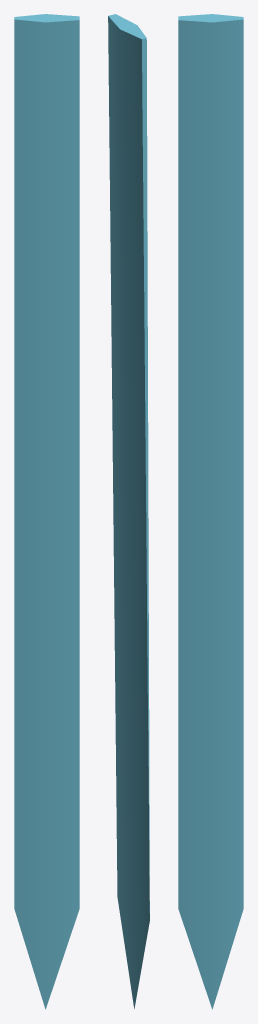
3 views of the same model, side by side, from view 1: azimuth 90°, elevation 25°; view 2: azimuth 210°, elevation 25°; view 3: azimuth 270°, elevation 25° (orthographic).
Parts seen in each view (by area): view 1: polySurface1; view 2: polySurface1; view 3: polySurface1.
Boxes of the visible parts, x1,y1,x2,y2 form: polySurface1: [14, 14, 79, 1009]; polySurface1: [108, 14, 149, 1008]; polySurface1: [178, 14, 243, 1009].
Bounding box in the file's own units: 0.3074 × 16.73 × 1.
